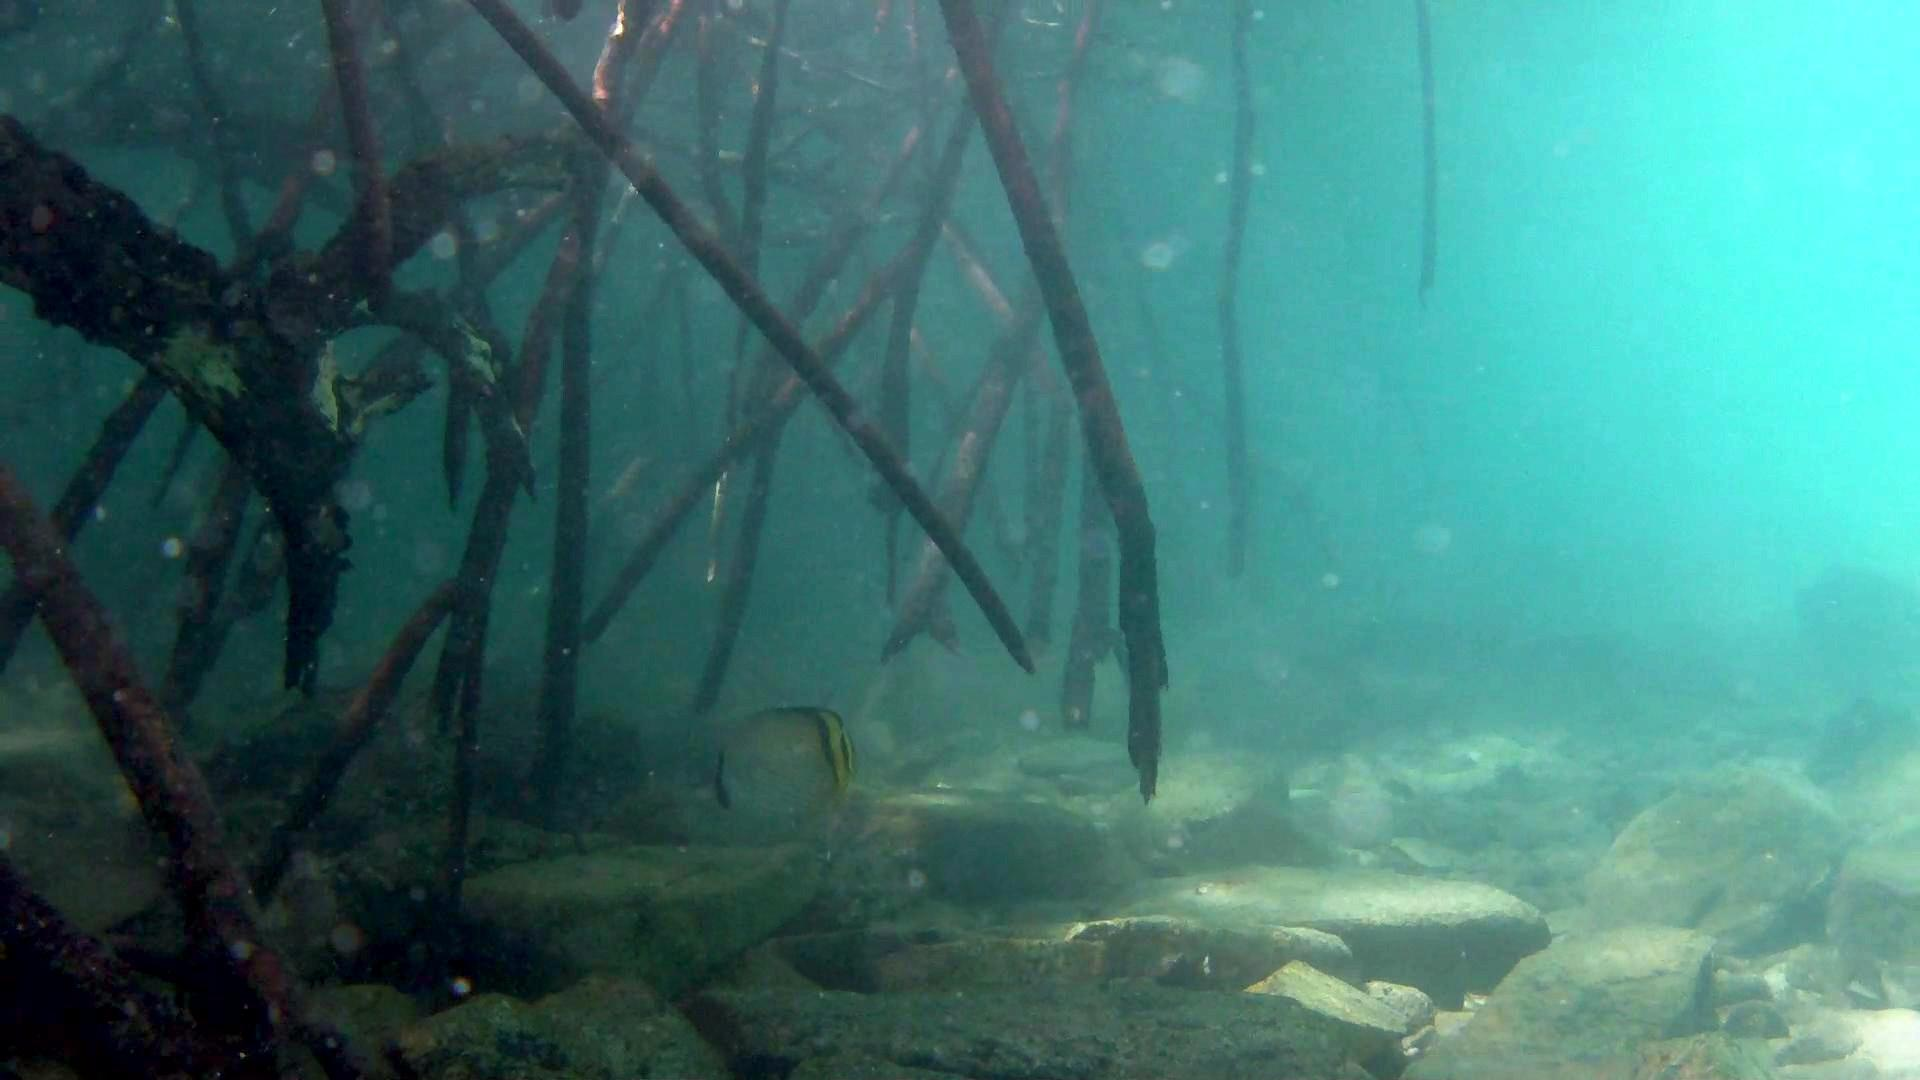chaetodon vagabundus: (685, 699, 867, 826)
